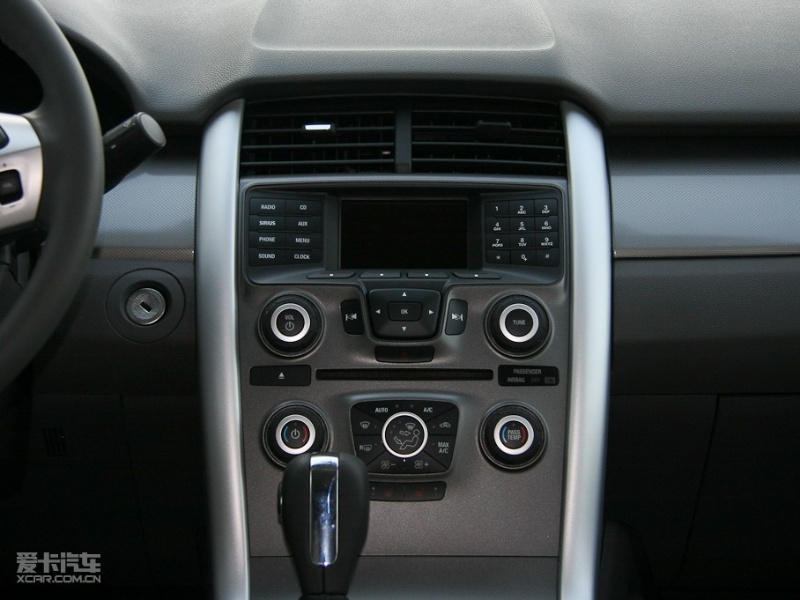control_center: (197, 79, 615, 455)
gear_lever: (262, 440, 385, 587)
steering_wheel: (1, 17, 140, 321)
